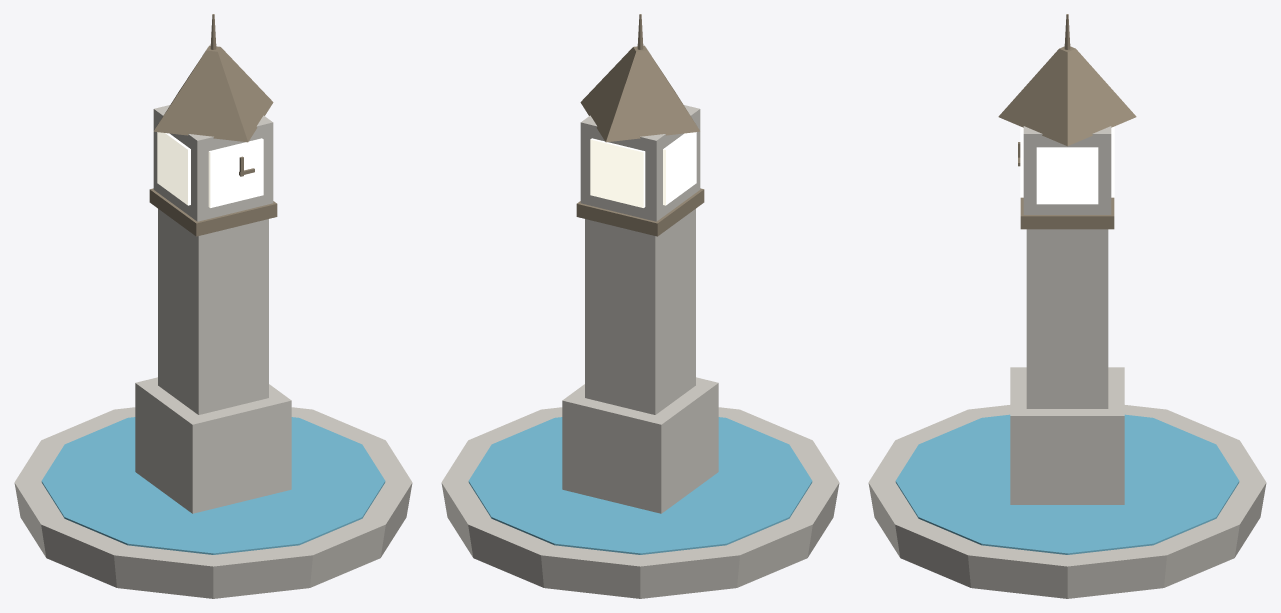
The model's file is landmark_clock_fountain.glb.
The picture shows the model from 3 angles, left to right: view 1: azimuth 30°, elevation 25°; view 2: azimuth 150°, elevation 25°; view 3: azimuth 270°, elevation 25°; orthographic projection.
Visible parts, largest first — view 1: landmark_clock_fountain; view 2: landmark_clock_fountain; view 3: landmark_clock_fountain.
Part boxes in pixels (x1,y1,x2,y2): landmark_clock_fountain: [14, 14, 412, 598]; landmark_clock_fountain: [441, 14, 839, 598]; landmark_clock_fountain: [868, 14, 1266, 598].
Size of the model in its own units: 6.6 by 9.2 by 6.6.
